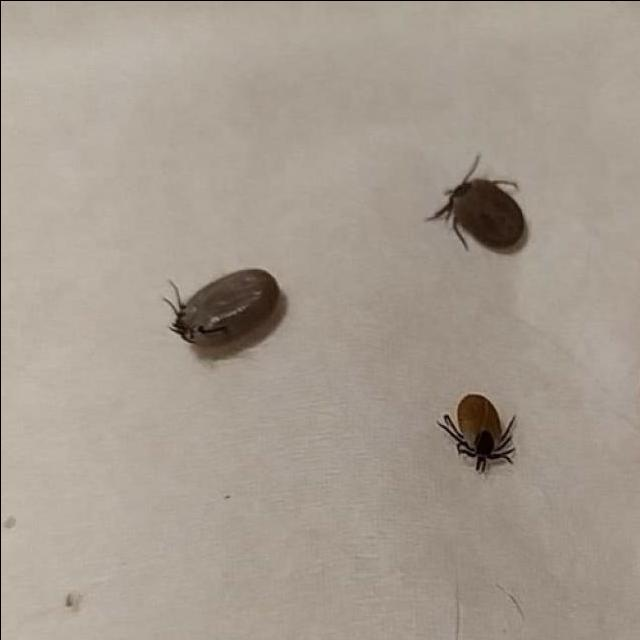Ixodes Ricinus-F-Fed: (422, 154, 531, 257), (433, 391, 521, 477)
